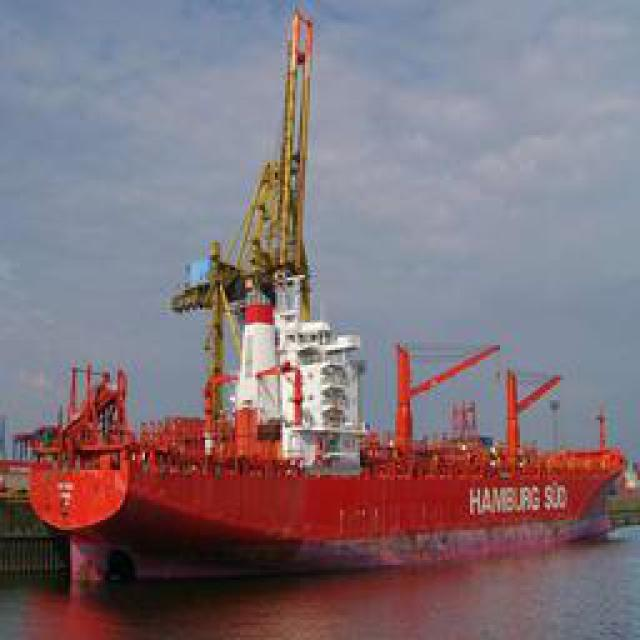Ship: (31, 21, 626, 584)
